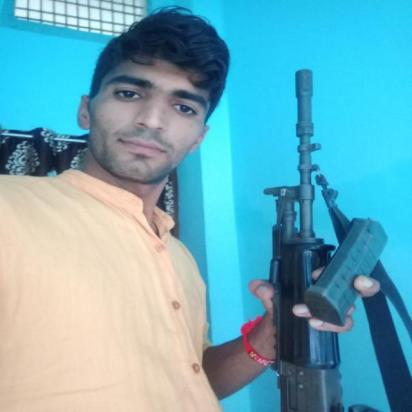Gun: (259, 66, 349, 412)
